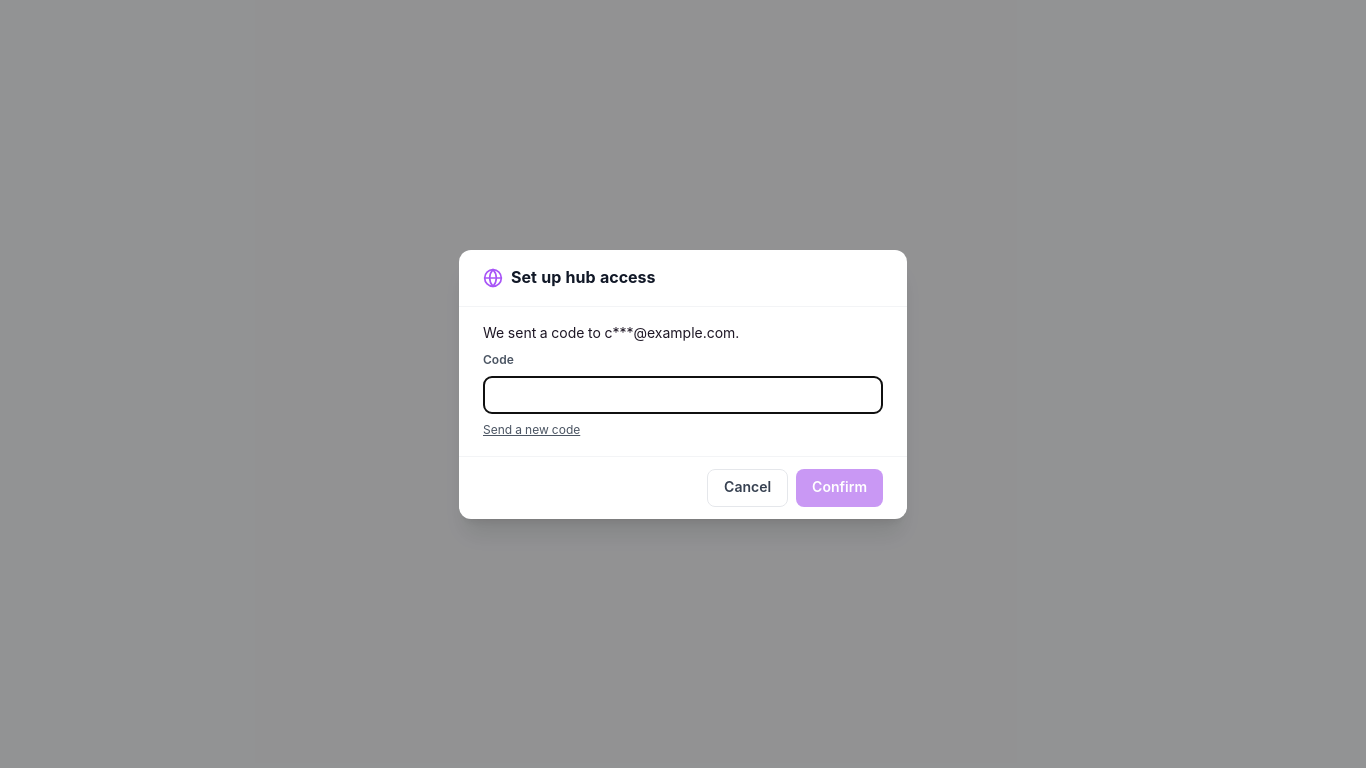
Test: HubEnrollmentDialog › enroll_code_invalid on confirm: stays on the code step with the sentence
Type "000000" into the field labelled "Code" at (683, 394), box [483, 376, 883, 414]
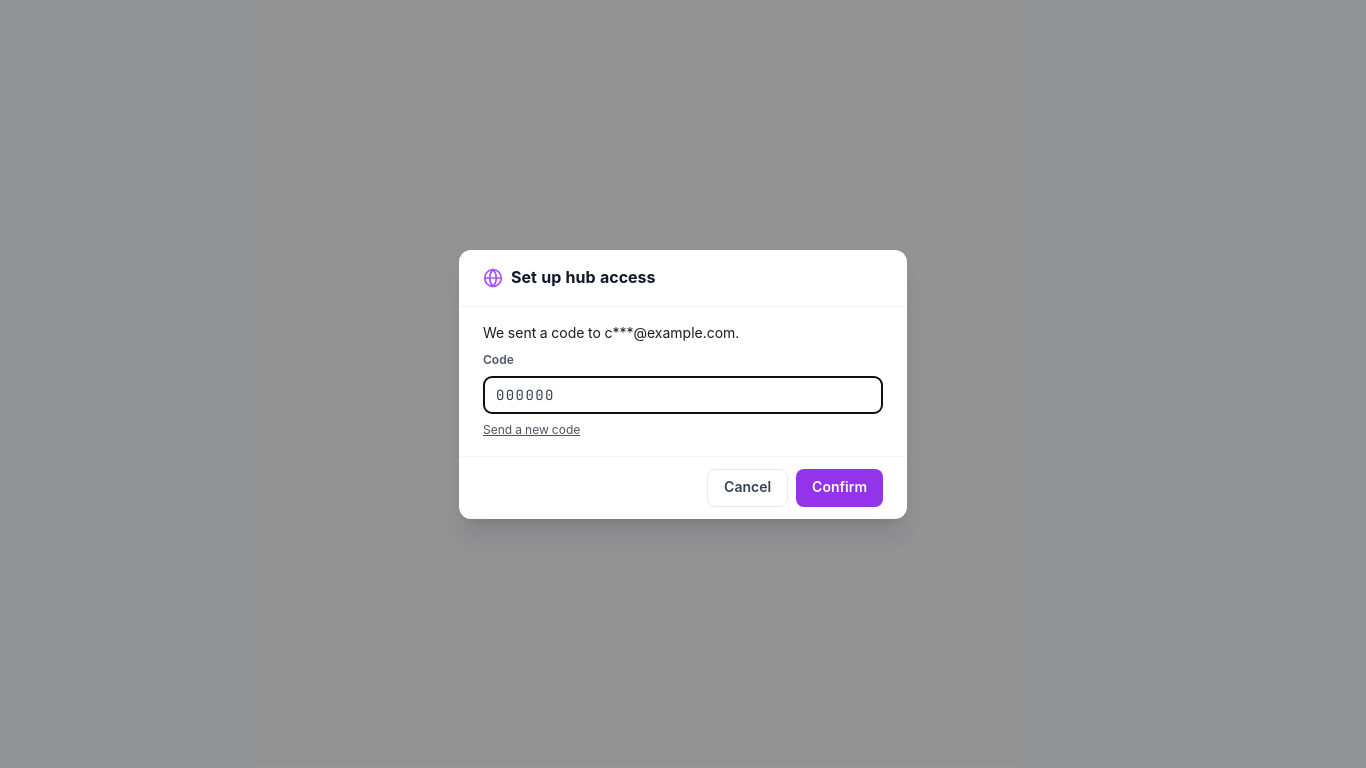
Click the button "Confirm" at (840, 488), box [796, 468, 883, 506]
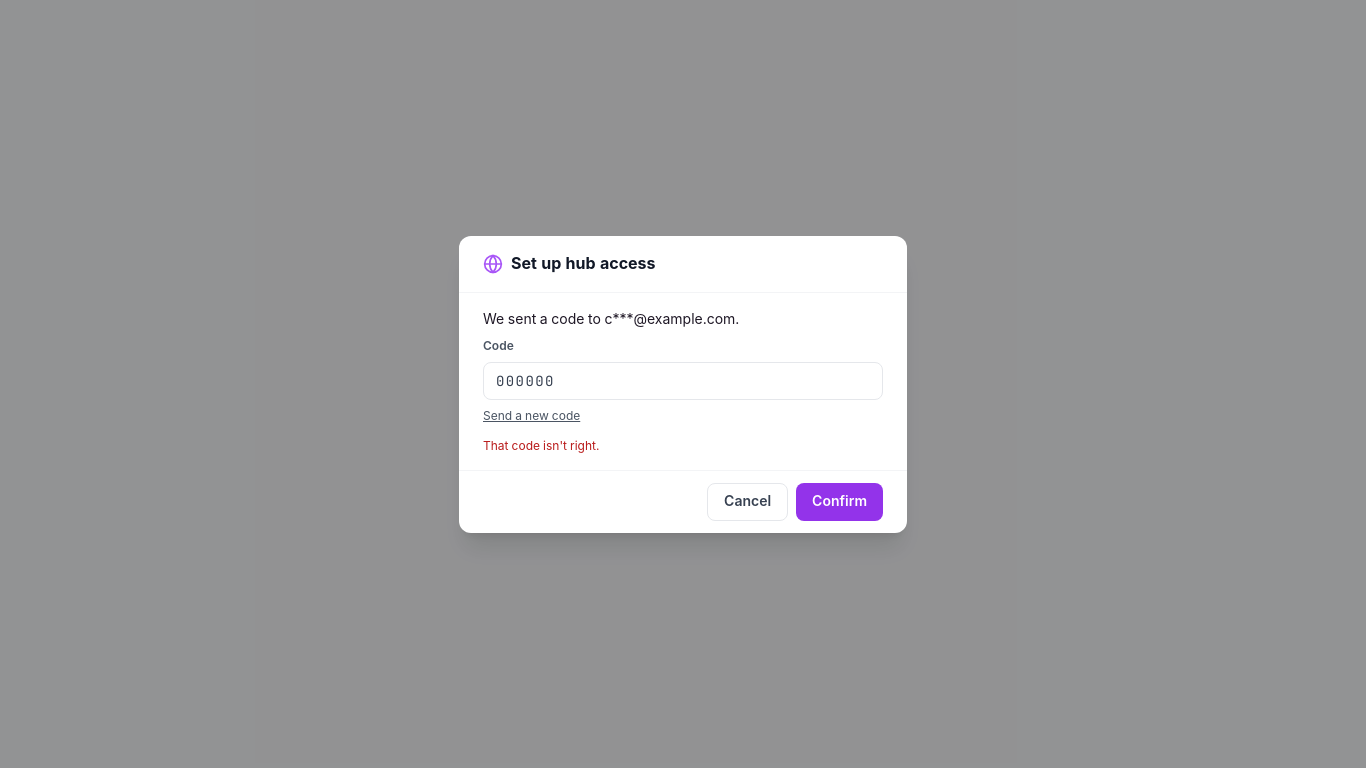
Check: the message reads "That code isn't right.", box [483, 438, 599, 454]
